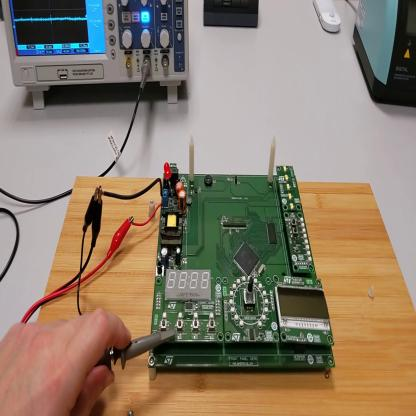hand: (2, 298, 131, 416)
low voltage board: (103, 138, 337, 370)
oscilloscope: (2, 2, 190, 110)
oscilloscope probe tip: (96, 328, 178, 371)
welder station: (355, 4, 416, 107)
working area: (39, 177, 416, 415)
